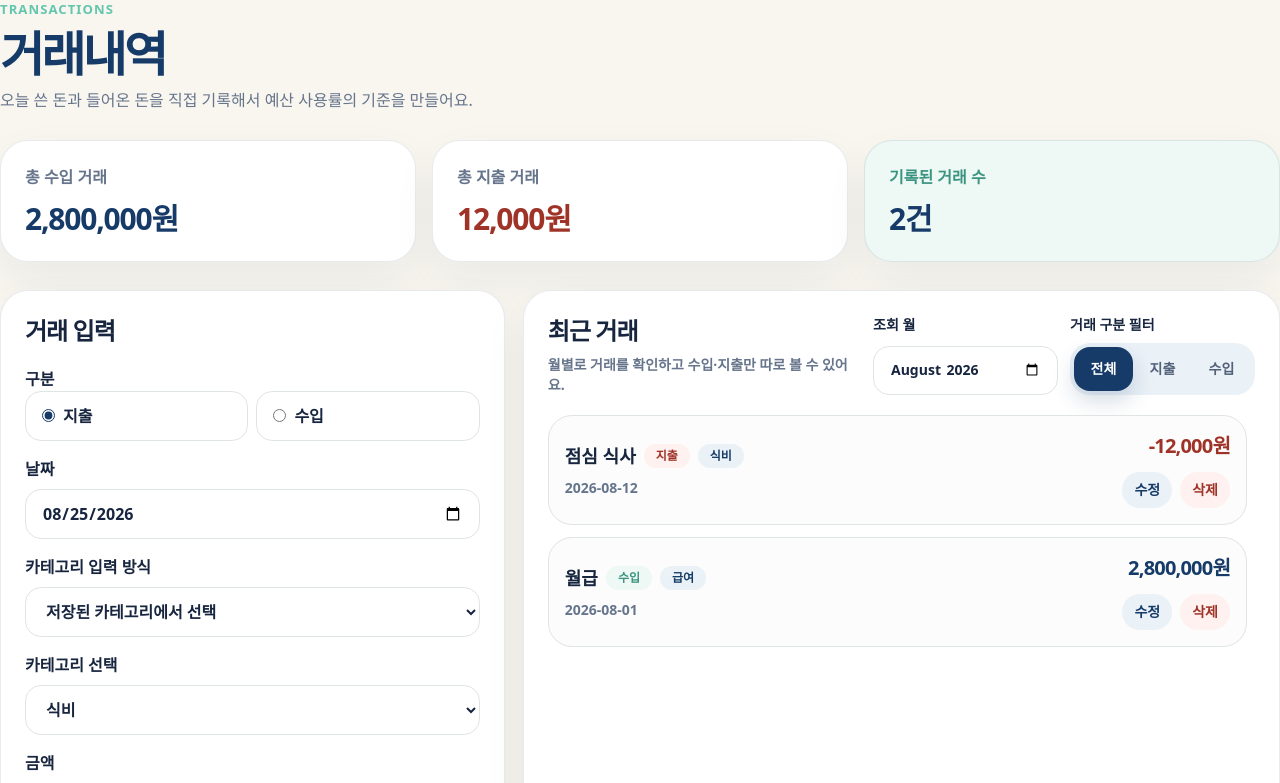
Scenario: TransactionsPage › deletes a transaction after confirmation
Check: the text "점심 식사" is shown, box left=565, top=442, right=636, bottom=470
Click the button with aria-label "점심 식사 삭제" at (1205,490), box left=1180, top=472, right=1230, bottom=508
(page scrolled)
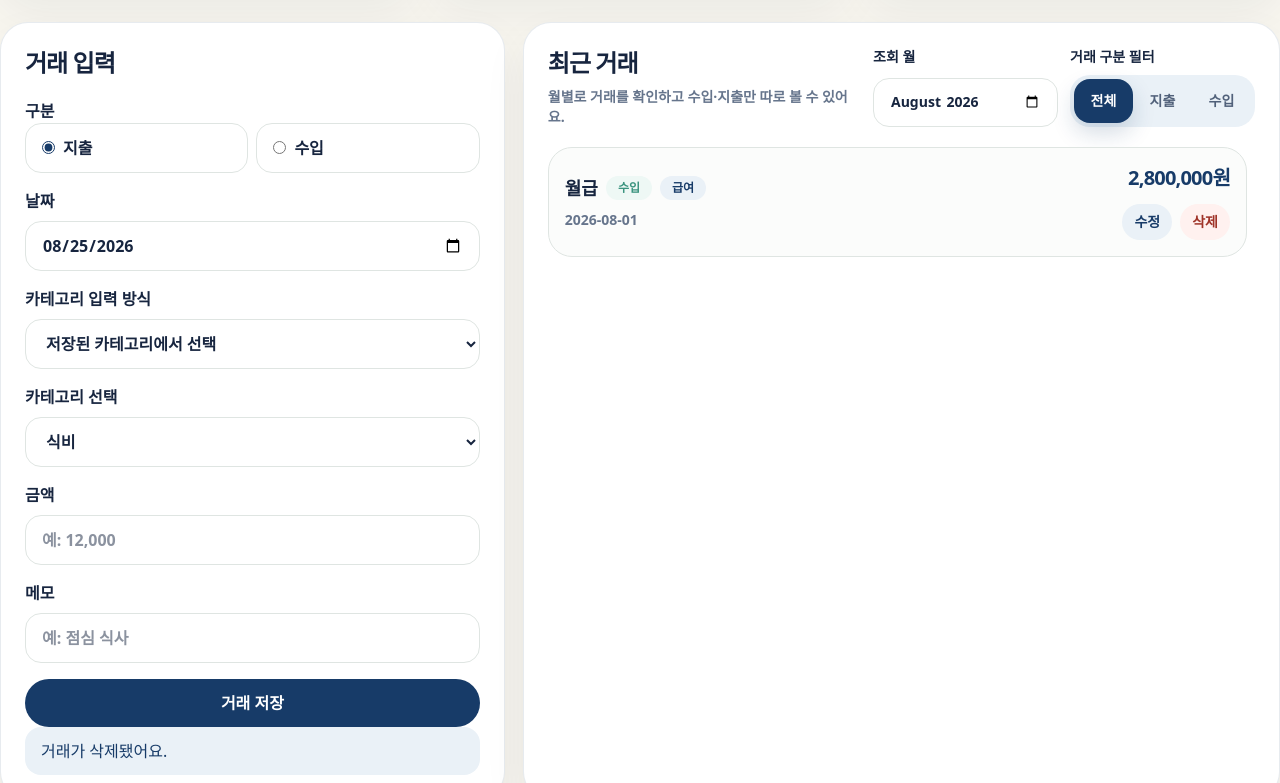
Check: the message reads "거래가 삭제됐어요.", box left=41, top=740, right=167, bottom=762
